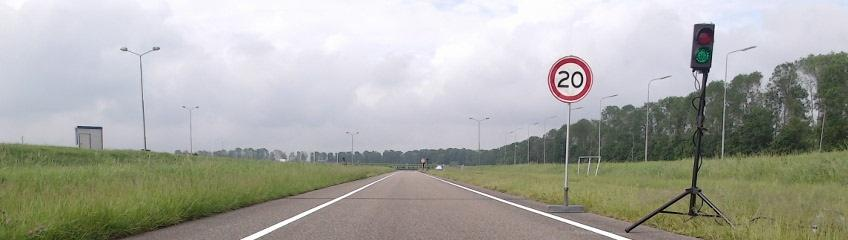Speed-limit-20km-h-: (547, 55, 593, 103)
TrafficLight-green: (691, 23, 714, 69)
